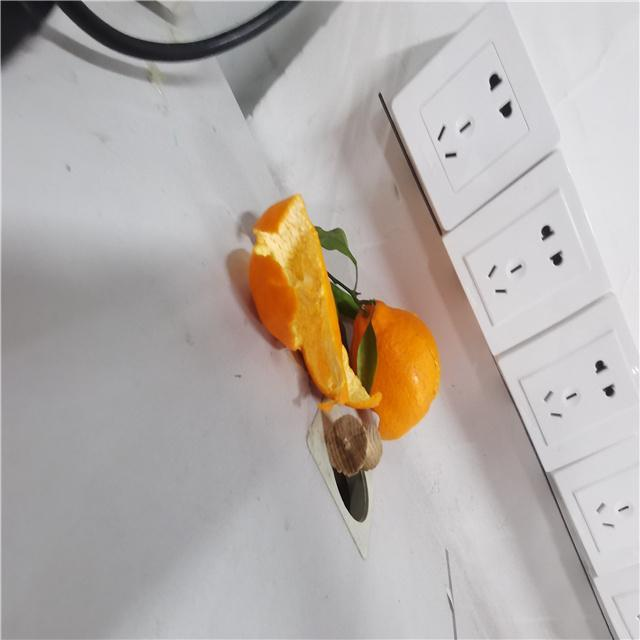orange-peel: (246, 192, 381, 410), (348, 298, 441, 440)
